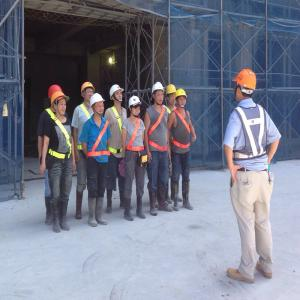white: (152, 81, 165, 107), (91, 93, 105, 117), (110, 84, 124, 106), (129, 96, 142, 119)
yellow: (233, 68, 258, 104), (52, 93, 68, 117), (82, 81, 96, 103), (176, 88, 189, 110), (167, 84, 178, 106)
